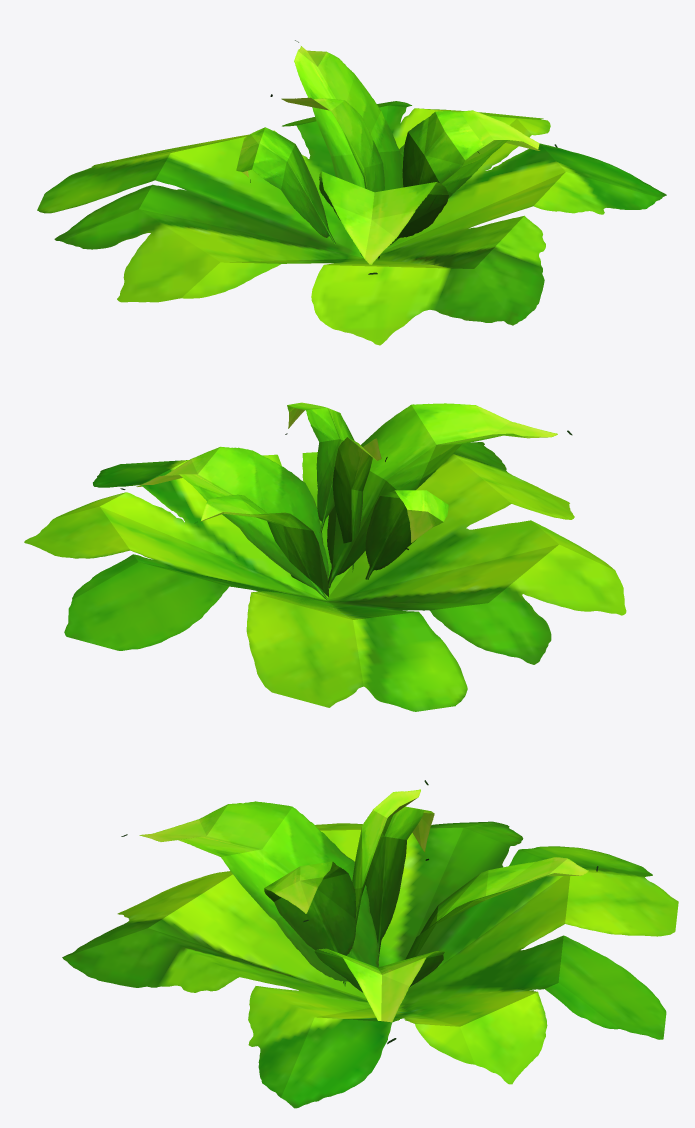
Rendered from shatan_cao01.fbx.
3 views of the same model, one above another, from view 1: azimuth 30°, elevation 25°; view 2: azimuth 150°, elevation 25°; view 3: azimuth 270°, elevation 25° (orthographic). The views are drawn at different scales.
Parts seen in each view (by area): view 1: shatan_cao01; view 2: shatan_cao01; view 3: shatan_cao01.
Boxes of the visible parts, <box> form: shatan_cao01: <box>37,40,666,345</box>; shatan_cao01: <box>24,402,626,711</box>; shatan_cao01: <box>62,780,678,1108</box>.
Bounding box in the file's own units: 0.8343 × 0.3453 × 0.7953.
